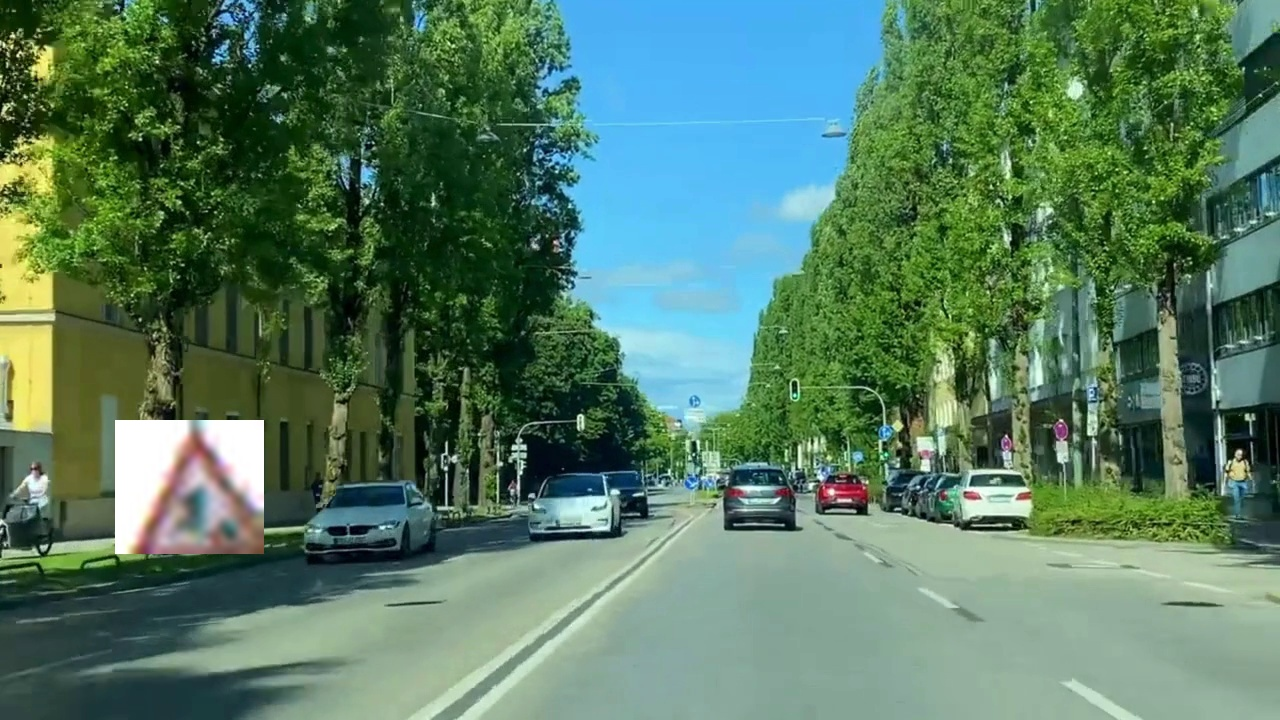Road work: (115, 420, 264, 554)
